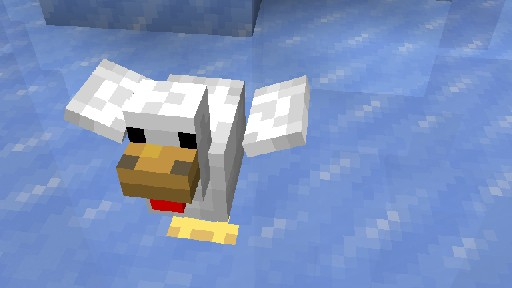chicken: (63, 57, 310, 245)
